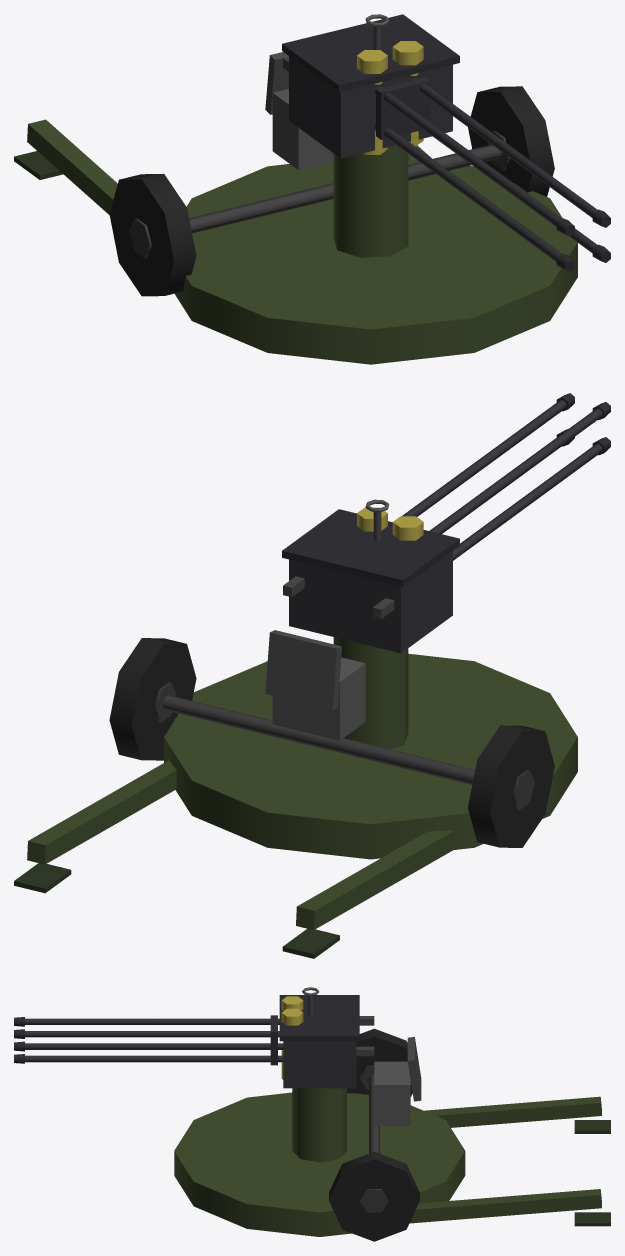
The model's file is zpu4-aa.glb.
3 renders of one model, top to bottom at view 1: azimuth 30°, elevation 25°; view 2: azimuth 150°, elevation 25°; view 3: azimuth 270°, elevation 25°, orthographic. The views are drawn at different scales.
Visible parts, largest first — view 1: Mesh_Base, Mesh_Pedestal, Mesh_WheelL, Mesh_Cradle, Mesh_CradleTop, Mesh_WheelR, Mesh_Axle, Mesh_TrailLegL, Mesh_SeatBase, Mesh_BarrelTL, Mesh_BarrelTR, Mesh_BarrelBL (+6 smaller); view 2: Mesh_Base, Mesh_Cradle, Mesh_WheelL, Mesh_CradleTop, Mesh_WheelR, Mesh_TrailLegL, Mesh_Pedestal, Mesh_TrailLegR, Mesh_Axle, Mesh_SeatBack, Mesh_SeatBase, Mesh_BarrelTL (+4 smaller); view 3: Mesh_Base, Mesh_WheelR, Mesh_Pedestal, Mesh_TrailLegR, Mesh_Cradle, Mesh_TrailLegL, Mesh_CradleTop, Mesh_SeatBase, Mesh_BarrelBR, Mesh_BarrelBL, Mesh_BarrelTL, Mesh_BarrelTR (+8 smaller).
Boxes of the visible parts, x1,y1,x2,y2 form: Mesh_Base: (175,159,577,364); Mesh_Pedestal: (333,145,408,257); Mesh_WheelL: (109,173,196,296); Mesh_Cradle: (289,56,452,158); Mesh_CradleTop: (282,14,459,92); Mesh_WheelR: (468,86,554,196); Mesh_Axle: (189,144,501,233); Mesh_TrailLegL: (27,119,117,214); Mesh_SeatBase: (272,89,333,170); Mesh_BarrelTL: (375,86,561,226); Mesh_BarrelTR: (411,77,597,217); Mesh_BarrelBL: (375,124,561,261); Mesh_Base: (164,653,577,859); Mesh_Cradle: (289,551,452,653); Mesh_WheelL: (468,725,554,847); Mesh_CradleTop: (282,509,459,587); Mesh_WheelR: (109,638,196,760); Mesh_TrailLegL: (296,830,455,930); Mesh_Pedestal: (333,637,408,749); Mesh_TrailLegR: (27,760,176,864); Mesh_Axle: (162,695,474,784); Mesh_SeatBack: (265,630,341,709); Mesh_SeatBase: (272,657,365,740); Mesh_BarrelTL: (429,408,602,533); Mesh_Base: (174,1092,465,1236); Mesh_WheelR: (329,1151,419,1241); Mesh_Pedestal: (292,1088,346,1162); Mesh_TrailLegR: (409,1189,601,1223); Mesh_Cradle: (283,1041,356,1088); Mesh_TrailLegL: (424,1096,601,1127); Mesh_CradleTop: (279,995,359,1041); Mesh_SeatBase: (374,1061,410,1125); Mesh_BarrelBR: (25,1055,283,1062); Mesh_BarrelBL: (25,1043,283,1049); Mesh_BarrelTL: (25,1018,279,1024); Mesh_BarrelTR: (25,1031,279,1037).
Size of the model in its own units: 1.72 by 1.15 by 3.28.
